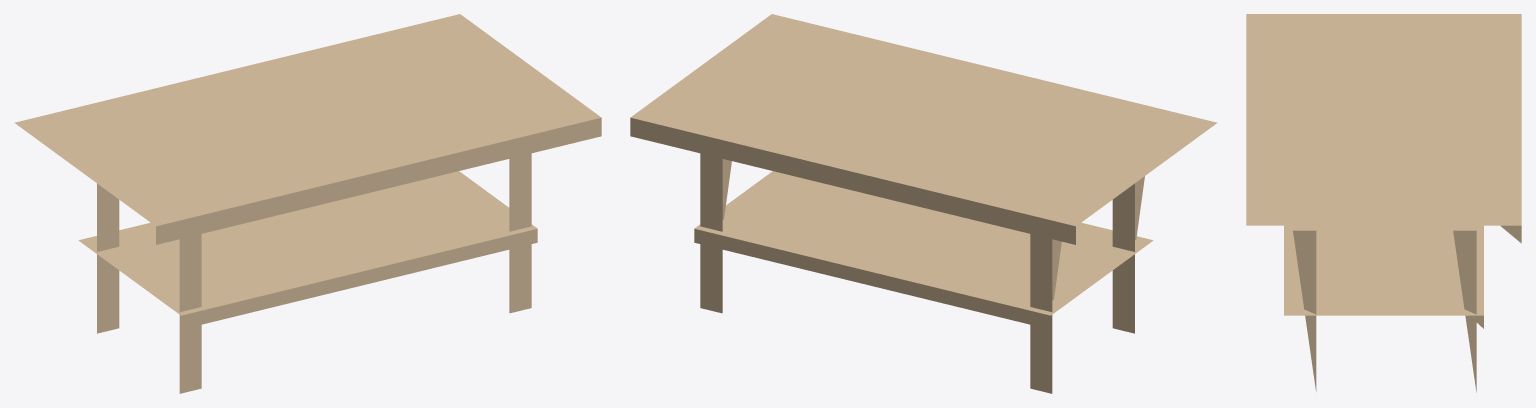
File: coffee-table.glb
The picture shows the model from 3 angles, left to right: view 1: azimuth 30°, elevation 25°; view 2: azimuth 150°, elevation 25°; view 3: azimuth 270°, elevation 25°; orthographic projection. The views are drawn at different scales.
Bounding box in the file's own units: 1 × 0.42 × 0.55.
